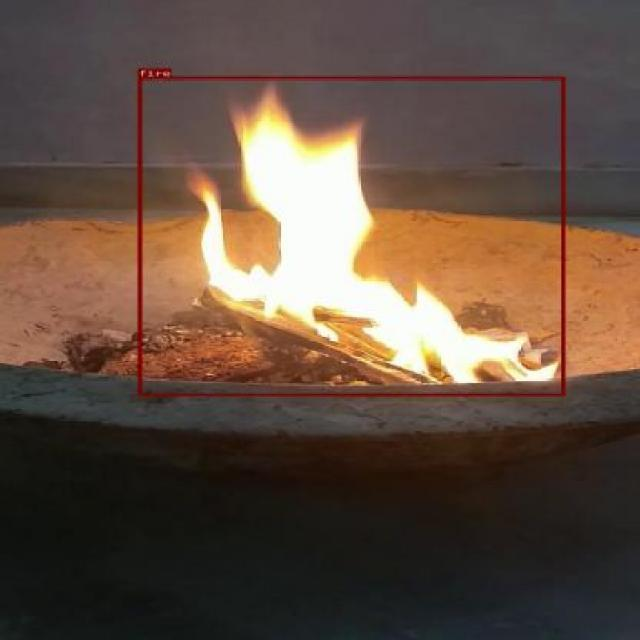Fire: (137, 76, 565, 395)
